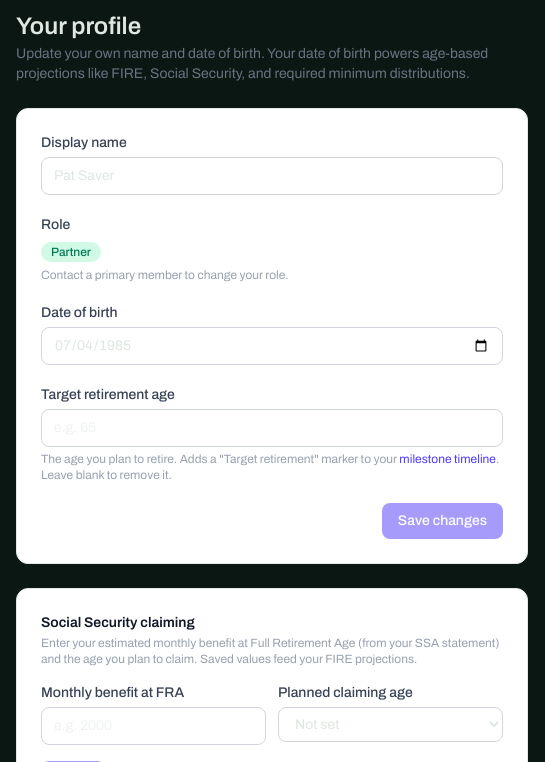
Test: Profile › shows a permission error when the server rejects the change
Replace the text in the field labelled "Display name" with "New Name" at (272, 176), box [41,157,503,195]
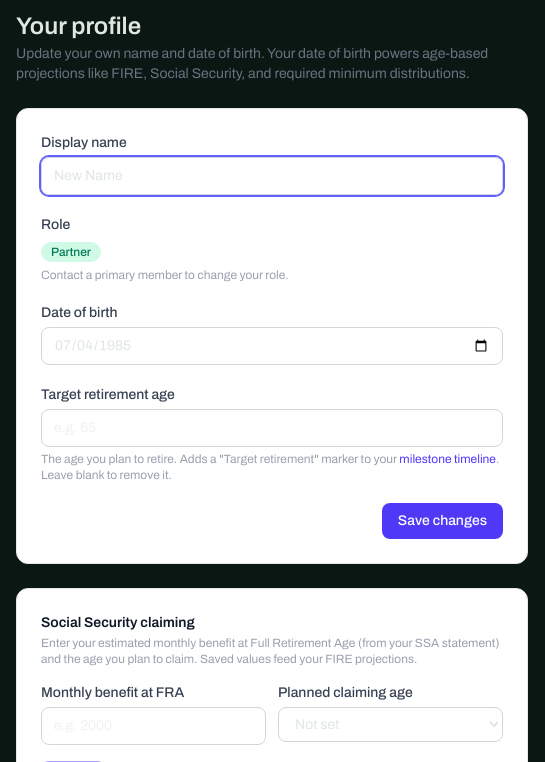
Click the button "Save changes" at (442, 521), box [382,503,503,539]
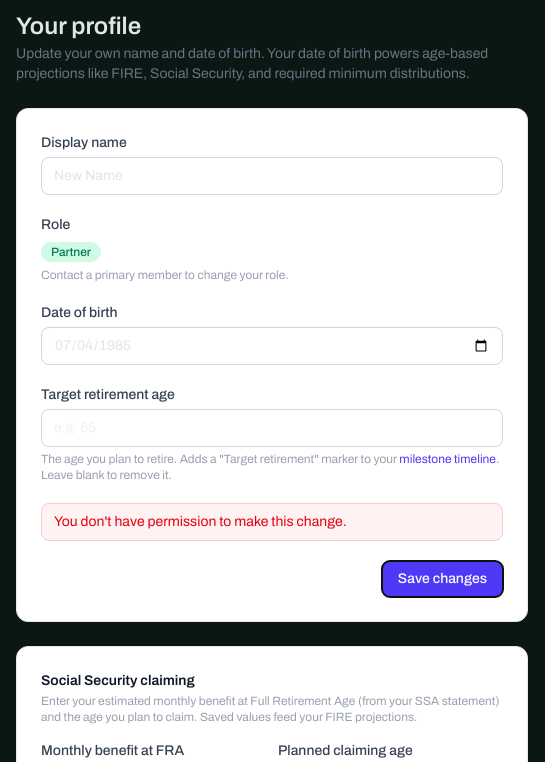
expect the text "You don't have permission to make this change." is shown: met, box [41,503,503,541]
